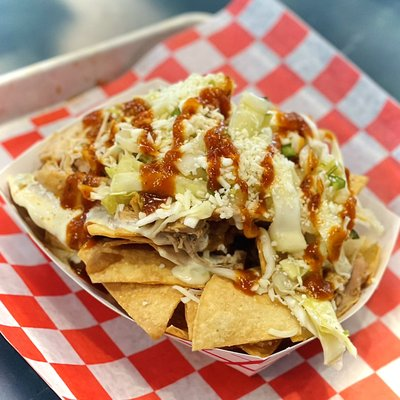soup: (7, 70, 397, 361)
